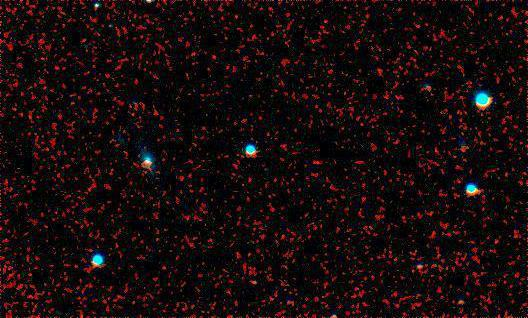star: (82, 0, 112, 21)
